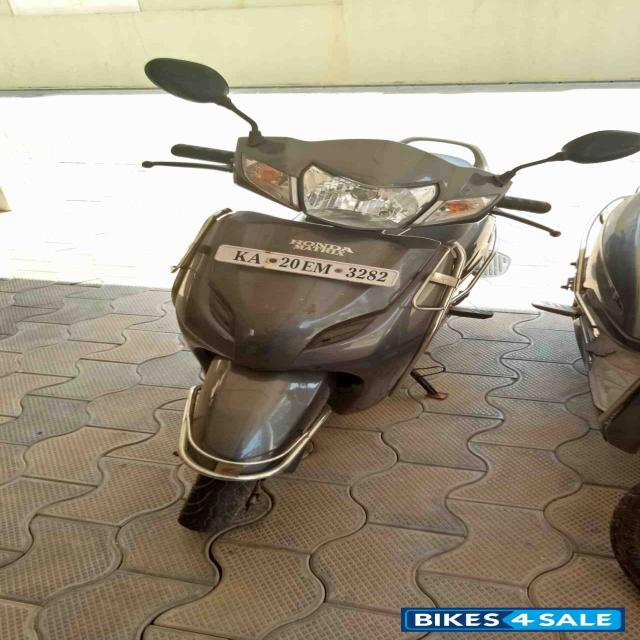number plate: (213, 244, 400, 288)
